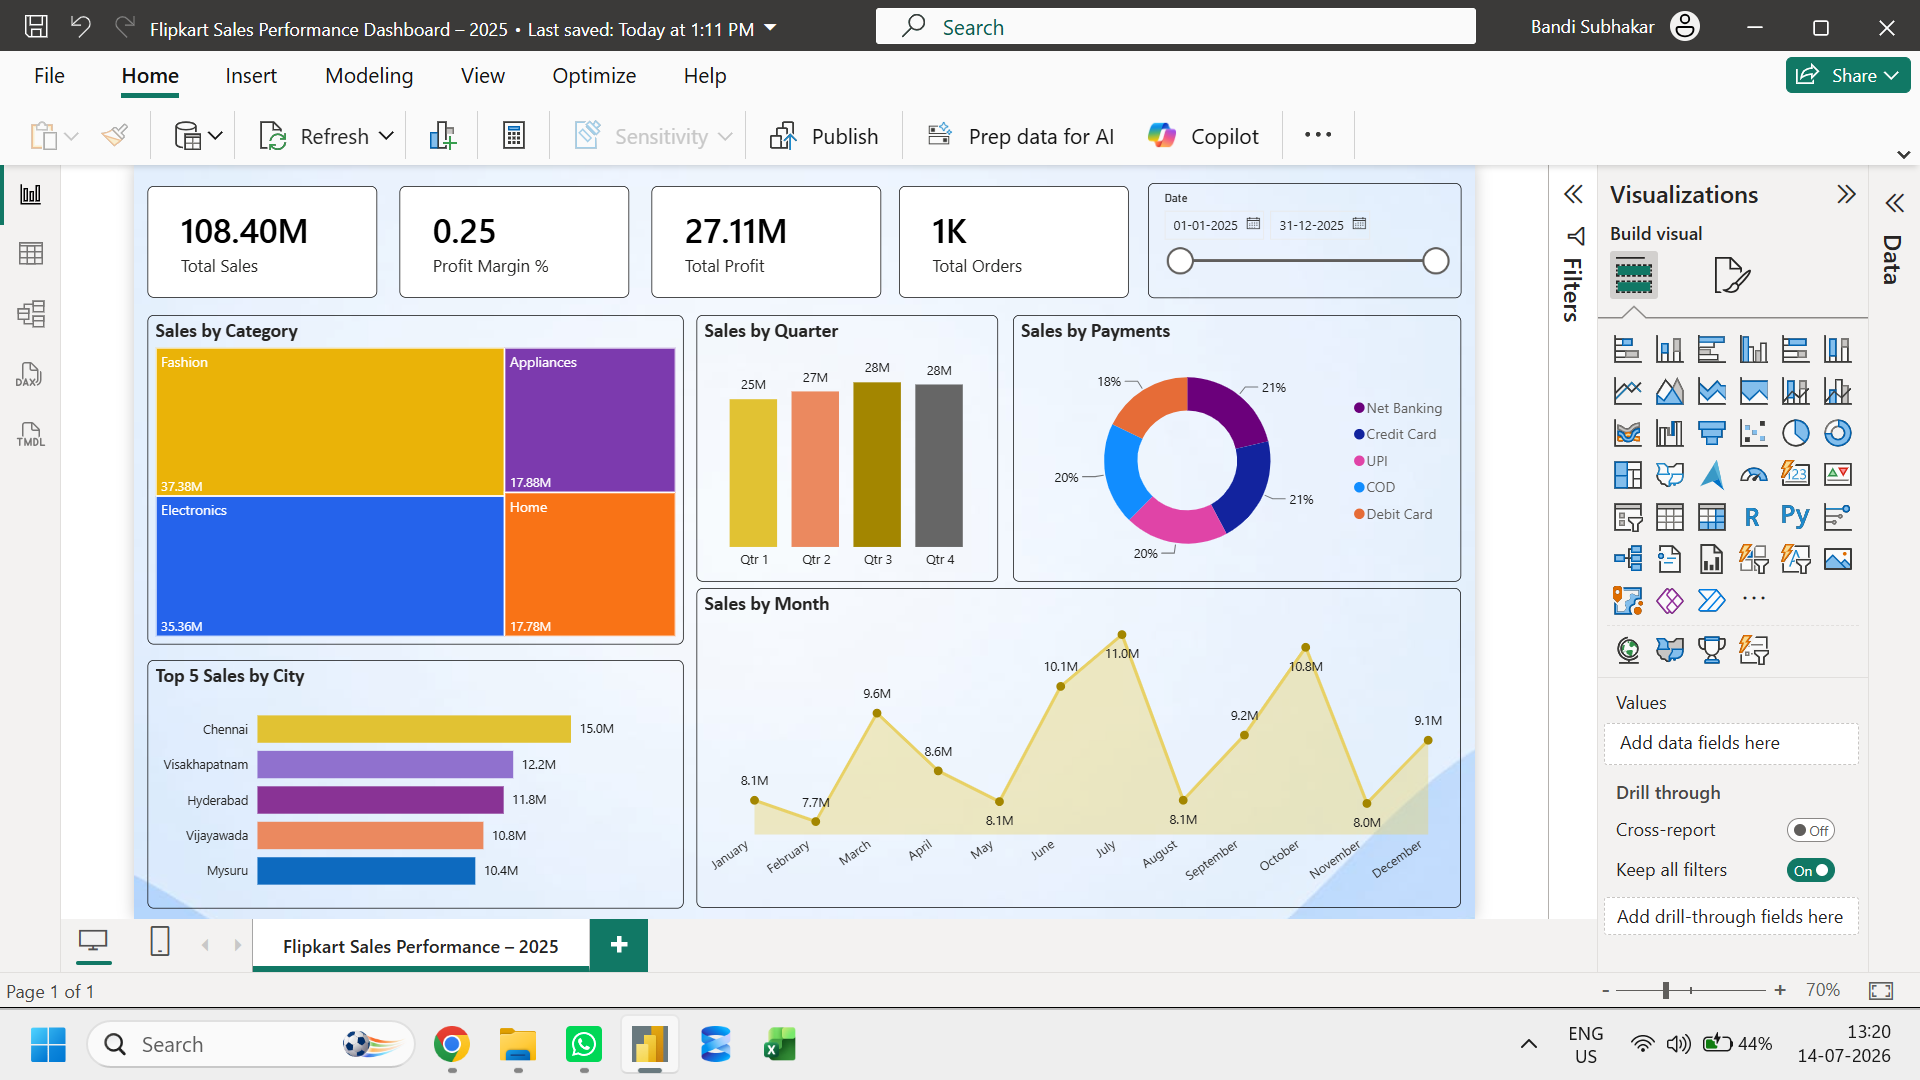

The page's visual inventory and layout, read from the dashboard file:
{"tool":"powerbi","page":{"name":"Flipkart Sales Performance – 2025","canvas":[1280,720],"ordinal":0},"visuals":[{"type":"treemap","title":"Sales by Category","fields":{"Group":["Flipkart_2025_Sales.Category"],"Values":["Date Table.Total Sales"]},"box":[12.7,143.2,512.2,314.9],"z":5},{"type":"barChart","title":"Top 5 Sales by City","fields":{"Category":["Flipkart_2025_Sales.City"],"Y":["Date Table.Total Sales"]},"box":[12.7,472.4,512.2,237],"z":6},{"type":"areaChart","title":"Sales by Month","fields":{"Category":["Date Table.Date.Variation.Date Hierarchy.Month"],"Y":["Sum(Flipkart_2025_Sales.Sales)"]},"box":[537.6,404,730.1,305.4],"z":7},{"type":"donutChart","title":"Sales by Payments","fields":{"Category":["Flipkart_2025_Sales.Payment_Mode"],"Y":["Date Table.Total Sales"]},"box":[839.8,143.2,427.9,254.5],"z":8},{"type":"cardVisual","fields":{"Data":["Date Table.Total Sales"]},"box":[12.7,20.7,219.5,106.6],"z":11},{"type":"columnChart","title":"Sales by Quarter","fields":{"Category":["Date Table.Date.Variation.Date Hierarchy.Quarter"],"Y":["Date Table.Total Sales"]},"box":[537.6,143.2,287.9,254.5],"z":12},{"type":"cardVisual","fields":{"Data":["Date Table.Profit Margin %"]},"box":[252.9,20.7,219.5,106.6],"z":13},{"type":"cardVisual","fields":{"Data":["Date Table.Total Profit"]},"box":[494.7,20.7,219.5,106.6],"z":15},{"type":"cardVisual","fields":{"Data":["Date Table.Total Orders"]},"box":[730.1,20.7,219.5,106.6],"z":16},{"type":"slicer","fields":{"Values":["Date Table.Date"]},"box":[968.7,17.5,299,109.8],"z":17}]}

Visuals, with their boxes on the page's 1280x720 design canvas (x1, y1, x2, y2). These are canvas units, not pixel positions in the 1920x1080 screenshot, which may show the page scaled, cropped or inside an application window:
"Sales by Category" treemap: locate(13, 143, 525, 458)
"Top 5 Sales by City" barChart: locate(13, 472, 525, 709)
"Sales by Month" areaChart: locate(538, 404, 1268, 709)
"Sales by Payments" donutChart: locate(840, 143, 1268, 398)
cardVisual - Date Table.Total Sales: locate(13, 21, 232, 127)
"Sales by Quarter" columnChart: locate(538, 143, 826, 398)
cardVisual - Date Table.Profit Margin %: locate(253, 21, 472, 127)
cardVisual - Date Table.Total Profit: locate(495, 21, 714, 127)
cardVisual - Date Table.Total Orders: locate(730, 21, 950, 127)
slicer - Date Table.Date: locate(969, 18, 1268, 127)
